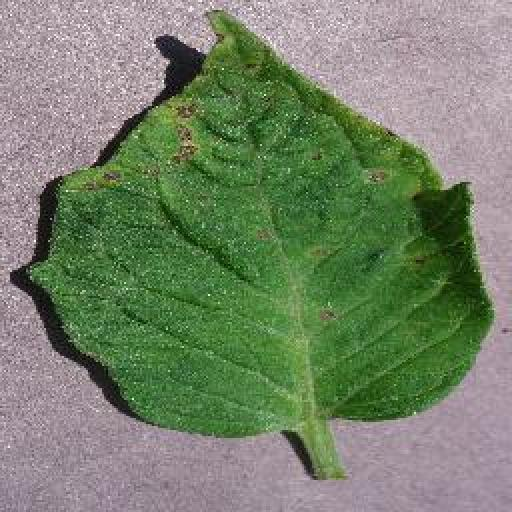Septoria: (29, 3, 495, 437)
